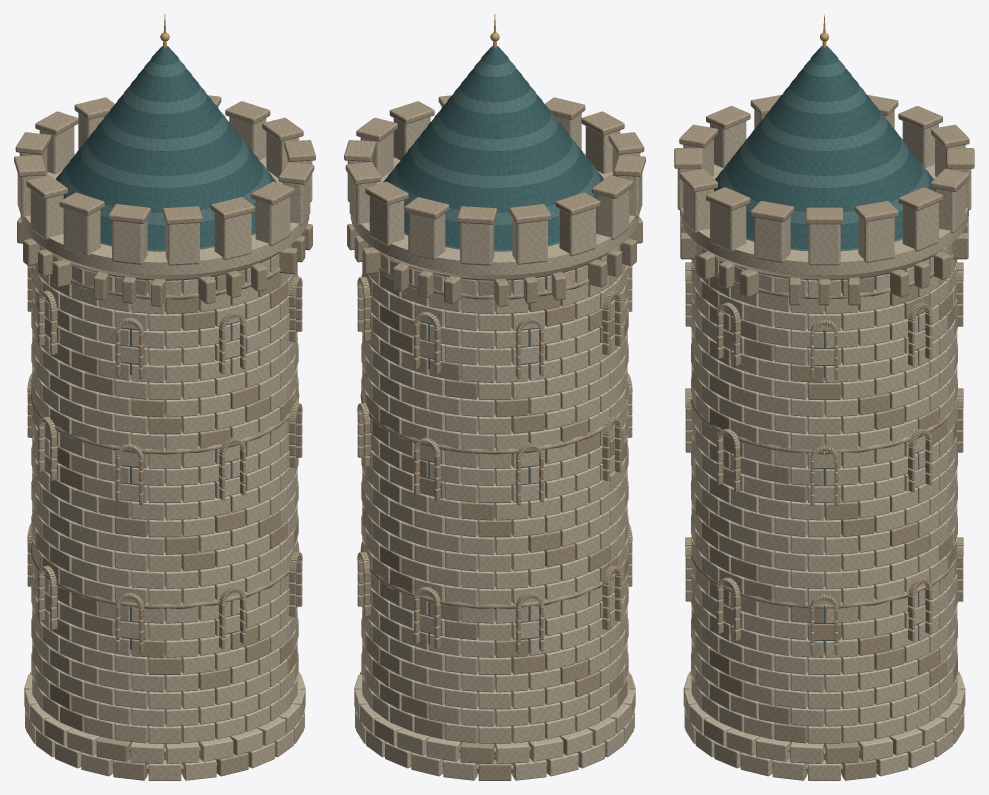
File: castle_tower.glb
3 views of the same model, side by side, from view 1: azimuth 30°, elevation 25°; view 2: azimuth 150°, elevation 25°; view 3: azimuth 270°, elevation 25° (orthographic).
Visible parts, largest first — view 1: Tower_limestone, Tower_cut_stone, Tower_slate, Tower_slate_light, Arrow slit facade.006_cut_stone, Arrow slit facade_cut_stone, Arrow slit facade.001_cut_stone, Arrow slit facade.007_cut_stone, Arrow slit facade.005_cut_stone; view 2: Tower_limestone, Tower_cut_stone, Tower_slate, Tower_slate_light, Arrow slit facade.006_cut_stone, Arrow slit facade.004_cut_stone, Arrow slit facade.003_cut_stone, Arrow slit facade.005_cut_stone, Arrow slit facade.007_cut_stone; view 3: Tower_limestone, Tower_cut_stone, Tower_slate, Tower_slate_light, Arrow slit facade.001_cut_stone, Arrow slit facade.003_cut_stone, Arrow slit facade.002_cut_stone, Arrow slit facade_cut_stone, Arrow slit facade.004_cut_stone.
Boxes of the visible parts, left/top/right/bottom form: Tower_limestone: left=17, top=113, right=312, bottom=780; Tower_cut_stone: left=14, top=95, right=315, bottom=780; Tower_slate: left=56, top=46, right=276, bottom=249; Tower_slate_light: left=60, top=59, right=269, bottom=251; Arrow slit facade.006_cut_stone: left=23, top=238, right=71, bottom=629; Arrow slit facade_cut_stone: left=198, top=263, right=266, bottom=649; Arrow slit facade.001_cut_stone: left=279, top=224, right=312, bottom=616; Arrow slit facade.007_cut_stone: left=94, top=272, right=165, bottom=653; Arrow slit facade.005_cut_stone: left=17, top=217, right=32, bottom=586; Tower_limestone: left=347, top=113, right=642, bottom=780; Tower_cut_stone: left=344, top=95, right=645, bottom=780; Tower_slate: left=383, top=46, right=603, bottom=249; Tower_slate_light: left=390, top=59, right=599, bottom=251; Arrow slit facade.006_cut_stone: left=588, top=238, right=636, bottom=629; Arrow slit facade.004_cut_stone: left=393, top=263, right=461, bottom=649; Arrow slit facade.003_cut_stone: left=347, top=224, right=380, bottom=616; Arrow slit facade.005_cut_stone: left=494, top=272, right=565, bottom=653; Arrow slit facade.007_cut_stone: left=627, top=217, right=642, bottom=586; Tower_limestone: left=677, top=110, right=971, bottom=780; Tower_cut_stone: left=674, top=95, right=974, bottom=780; Tower_slate: left=714, top=46, right=934, bottom=249; Tower_slate_light: left=719, top=59, right=929, bottom=251; Arrow slit facade.001_cut_stone: left=698, top=251, right=758, bottom=641; Arrow slit facade.003_cut_stone: left=890, top=251, right=950, bottom=641; Arrow slit facade.002_cut_stone: left=789, top=277, right=859, bottom=654; Arrow slit facade_cut_stone: left=680, top=219, right=696, bottom=601; Arrow slit facade.004_cut_stone: left=952, top=219, right=968, bottom=601.
Size of the model in its own units: 7.12 by 18.55 by 7.12.
7 materials, 4 textured.
